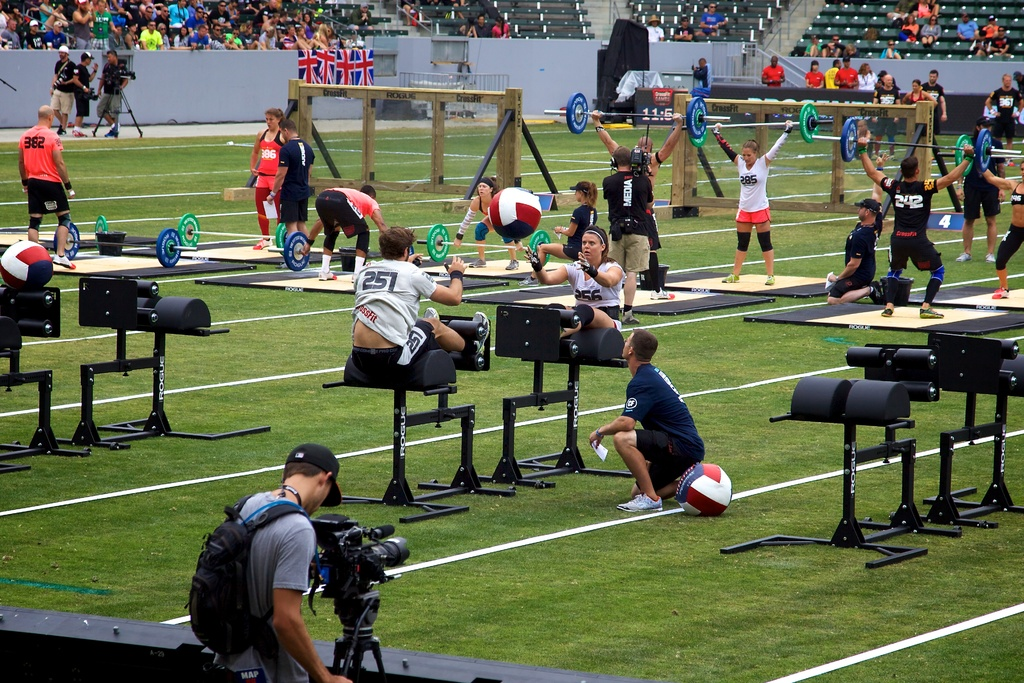Ball: (677, 458, 731, 520)
